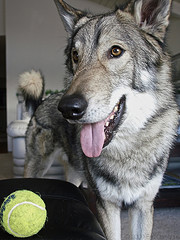tennis ball: (1, 187, 51, 237)
